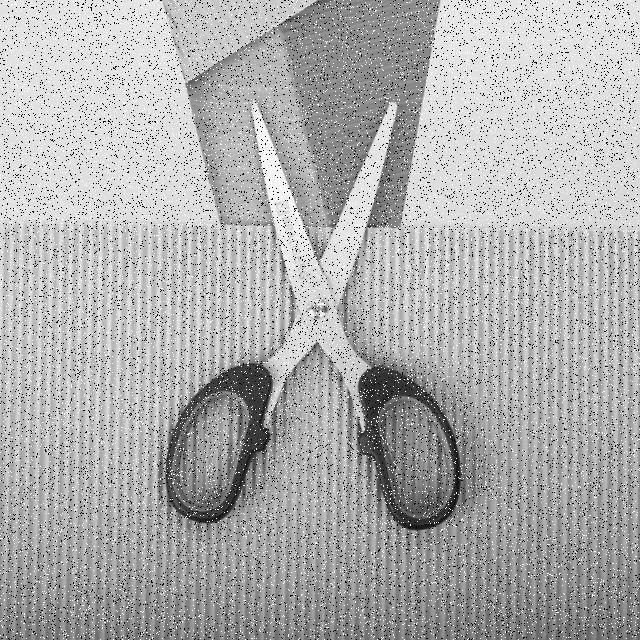scissors: (159, 94, 466, 533)
